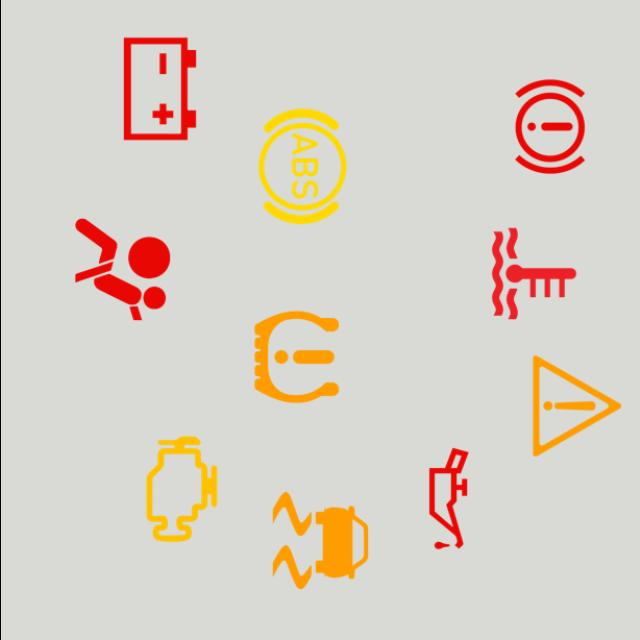Anti Lock Braking System: (239, 103, 365, 230)
Braking System Issue: (486, 64, 612, 190)
Charging System Issue: (96, 26, 222, 152)
Check Engine: (118, 427, 244, 552)
Electronic Stability Problem -ESP-: (256, 478, 382, 604)
Engine Overheating Warning Light: (470, 210, 596, 336)
Low Engine Oil Warning Light: (384, 436, 510, 562)
Low Tire Pressure Warning Light: (232, 294, 358, 420)
Master warning light: (513, 343, 639, 469)
SRS-Airbag: (59, 206, 184, 332)
